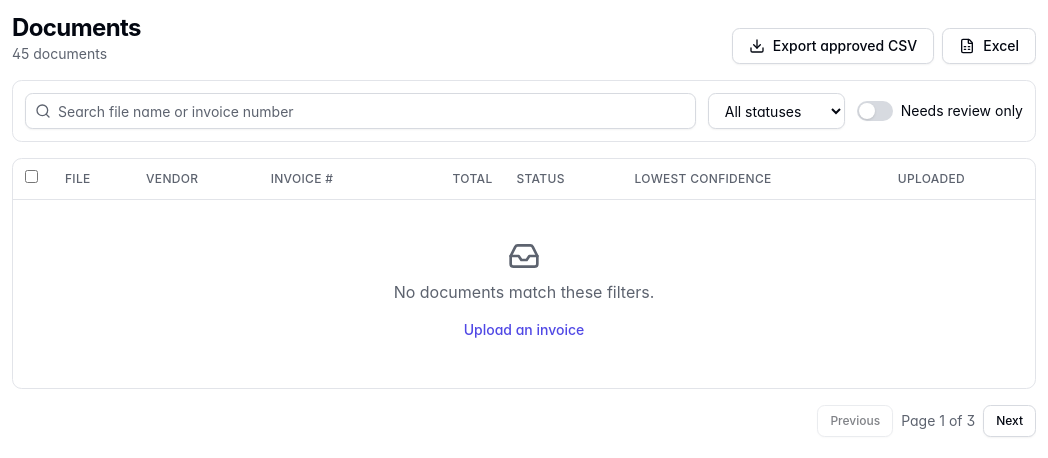
Scenario: DocumentsPage › paginates
The image size is (1048, 458).
Check: the text "Page 1 of 3" is shown, box top-left (901, 410), bottom-right (975, 430)
Click the button "Next".
click(1010, 420)  # box top-left (983, 404), bottom-right (1036, 436)
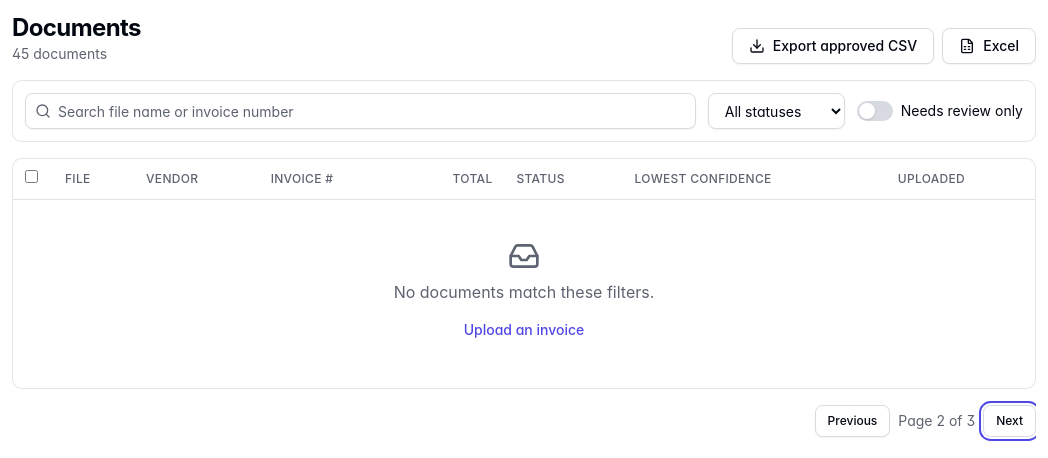
Check: the text "Page 2 of 3" is shown, box top-left (898, 410), bottom-right (975, 430)
Click the button "Previous".
click(852, 420)  # box top-left (814, 404), bottom-right (890, 436)
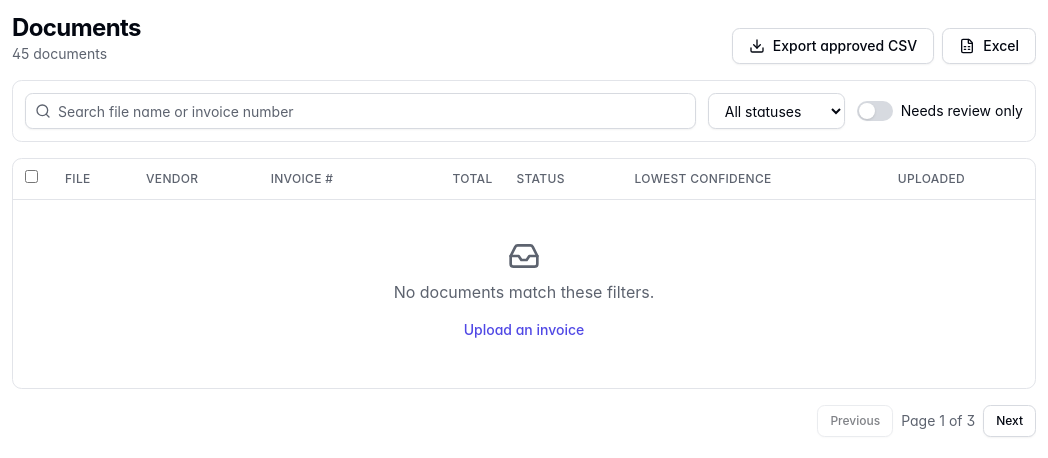
Check: the text "Page 1 of 3" is shown, box top-left (901, 410), bottom-right (975, 430)
